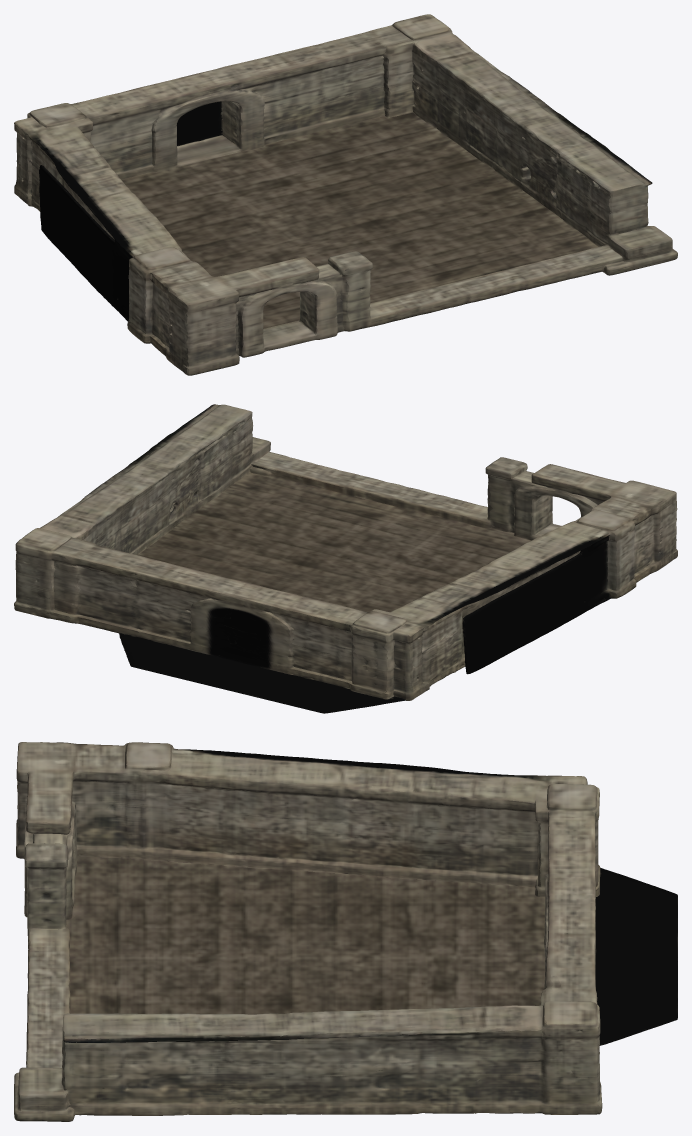
File: library-shell.glb
The picture shows the model from 3 angles, top to bottom: view 1: azimuth 30°, elevation 25°; view 2: azimuth 150°, elevation 25°; view 3: azimuth 270°, elevation 25°; orthographic projection. The views are drawn at different scales.
Visible parts, largest first — view 1: world; view 2: world; view 3: world.
Boxes of the visible parts, <box> form: world: <box>14,14,677,375</box>; world: <box>14,404,677,713</box>; world: <box>14,742,677,1121</box>.
Bounding box in the file's own units: 29.09 × 4.27 × 27.83.
Materials: 1 (1 with a texture image).
